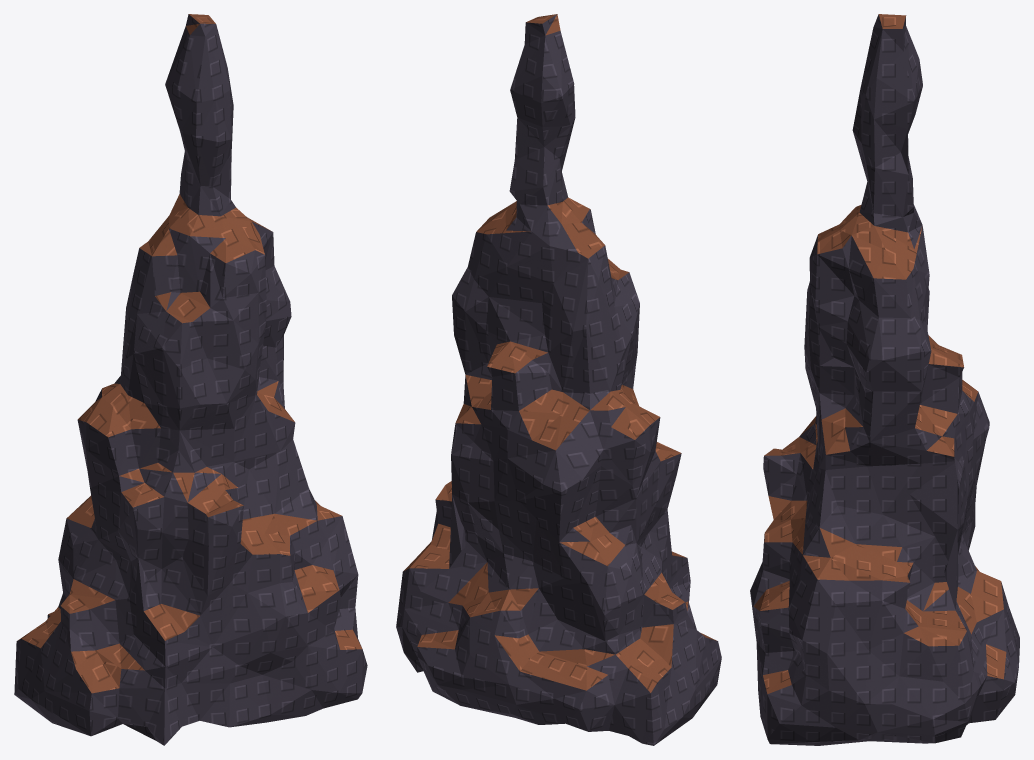
File: BasaltCrag.glb
3 views of the same model, side by side, from view 1: azimuth 30°, elevation 25°; view 2: azimuth 150°, elevation 25°; view 3: azimuth 270°, elevation 25° (orthographic). The views are drawn at different scales.
Visible parts, largest first — view 1: BasaltCrag_Rock, BasaltCrag_Top; view 2: BasaltCrag_Rock, BasaltCrag_Top; view 3: BasaltCrag_Rock, BasaltCrag_Top.
Part boxes in pixels (<box>): BasaltCrag_Rock: <box>14,14,367,745</box>; BasaltCrag_Top: <box>17,14,362,693</box>; BasaltCrag_Rock: <box>396,14,721,745</box>; BasaltCrag_Top: <box>403,14,716,692</box>; BasaltCrag_Rock: <box>750,14,1019,745</box>; BasaltCrag_Top: <box>753,14,1006,693</box>.
Size of the model in its own units: 13.06 by 29.86 by 10.64.
Materials: 2 (2 with a texture image).
